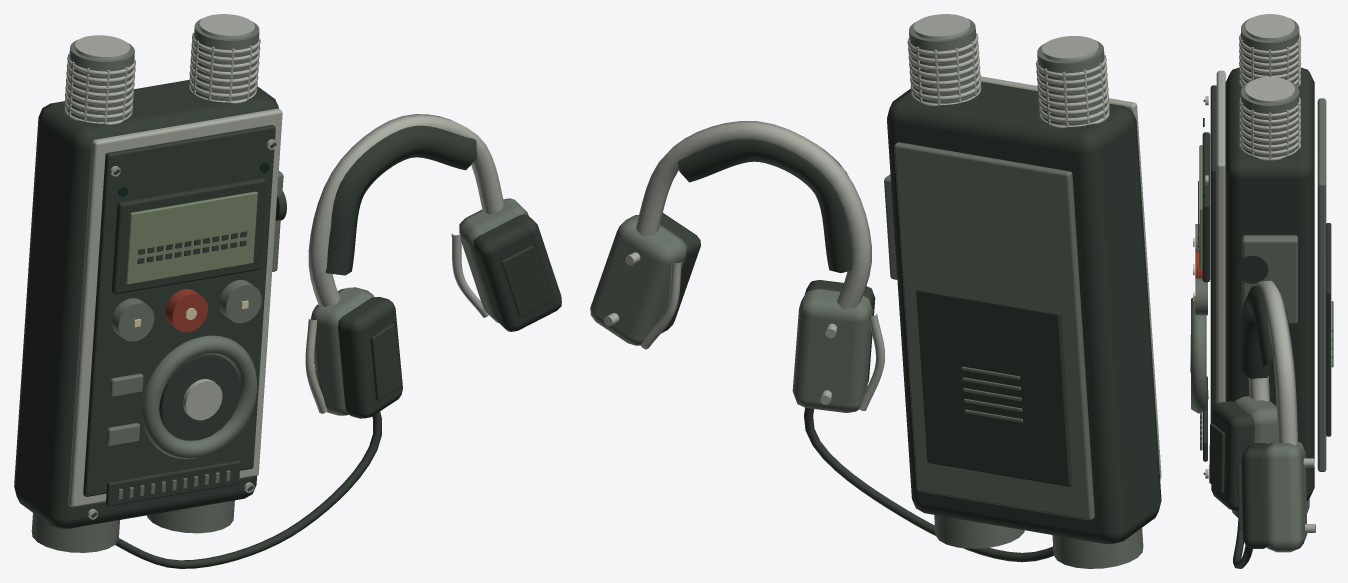
Rendered from recorder.glb.
3 renders of one model, left to right at view 1: azimuth 30°, elevation 25°; view 2: azimuth 150°, elevation 25°; view 3: azimuth 270°, elevation 25°, orthographic. The views are drawn at different scales.
Visible parts, largest first — view 1: recorder; view 2: recorder; view 3: recorder.
Boxes of the visible parts, x1,y1,x2,y2 form: recorder: (14,14,561,568); recorder: (590,14,1161,568); recorder: (1190,14,1333,568).
Bounding box in the file's own units: 2.14 × 2.07 × 0.562.
